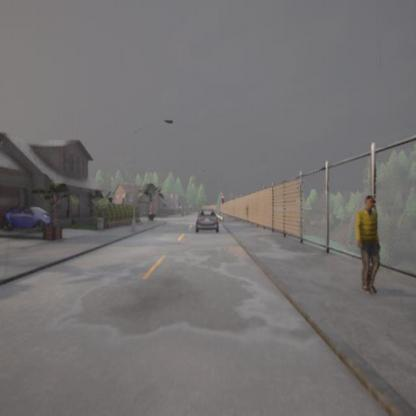person: (355, 196, 381, 294)
vehicle: (3, 206, 52, 230), (194, 211, 220, 234)
